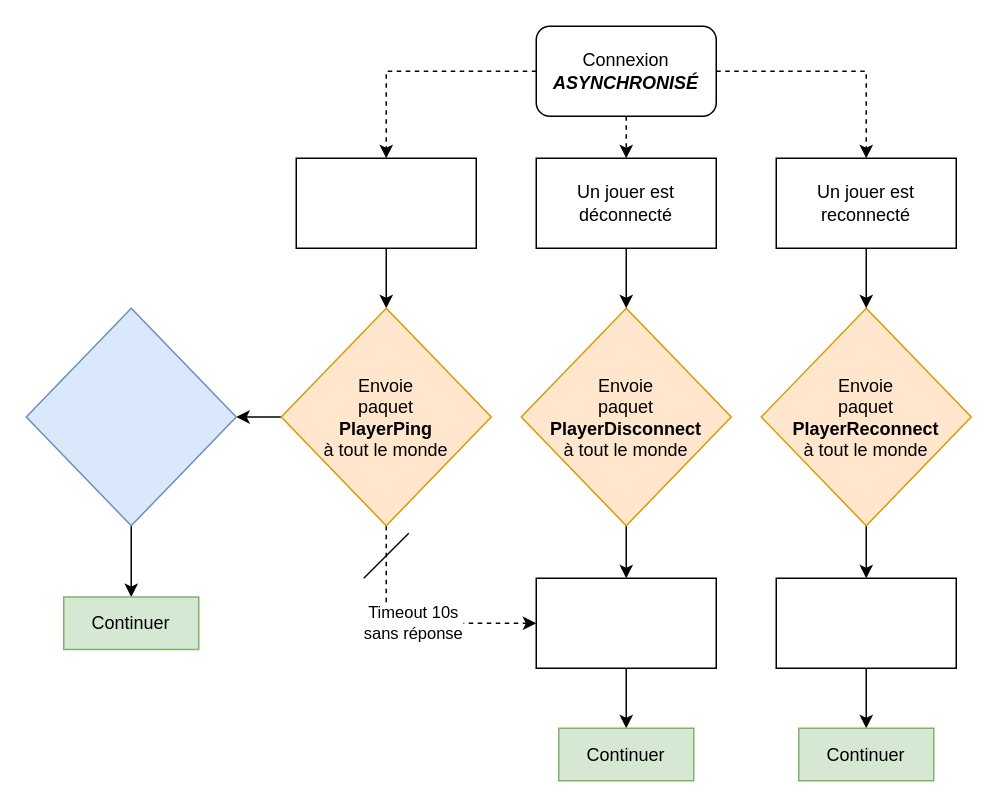
The diagram is 998 pixels wide and 807 high, and some of its shapes have lost their labels. The shapes that lost their labels are listed below. From the top down, each one's box as (x1, y1, x2, y2) in pixels, then its label:
(295, 157, 476, 248): Heartbeat
(25, 307, 236, 526): Envoie paquet PlayerPing
(535, 577, 716, 668): Remplacer le joueur par un bot
(775, 577, 956, 668): Remplacer le bot par le joueur
